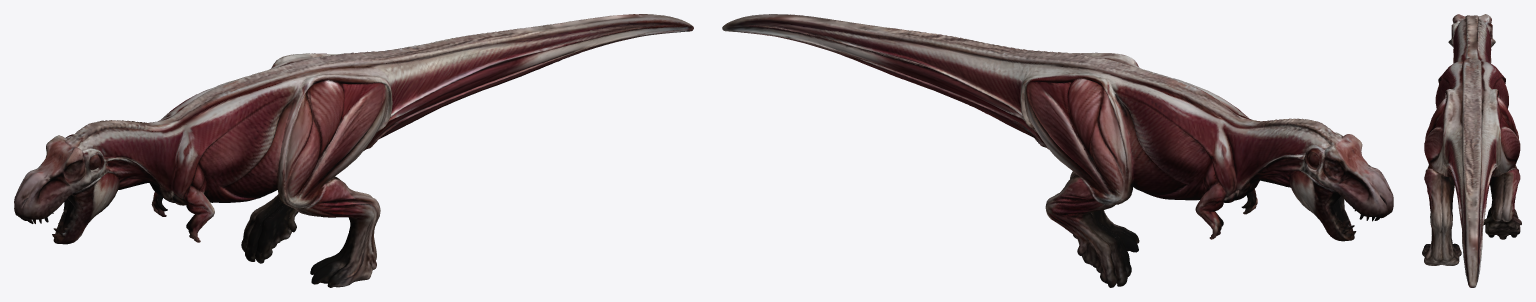
File: muscle.glb
3 renders of one model, left to right at view 1: azimuth 30°, elevation 25°; view 2: azimuth 150°, elevation 25°; view 3: azimuth 270°, elevation 25°, orthographic. The views are drawn at different scales.
Parts seen in each view (by area): view 1: node_0; view 2: node_0; view 3: node_0.
Part boxes in pixels (bbox=[...]): node_0: bbox=[14, 14, 693, 287]; node_0: bbox=[722, 14, 1393, 287]; node_0: bbox=[1422, 14, 1521, 287].
Size of the model in its own units: 1.19 by 0.3414 by 0.1914.
Materials: 1 (1 with a texture image).
